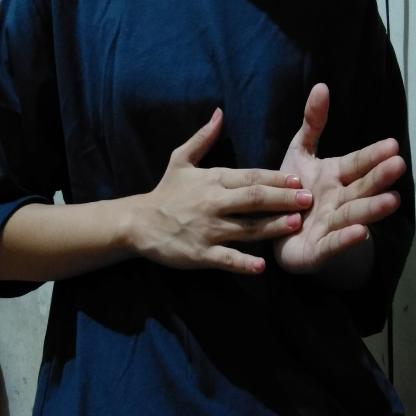mother: (99, 79, 412, 280)
